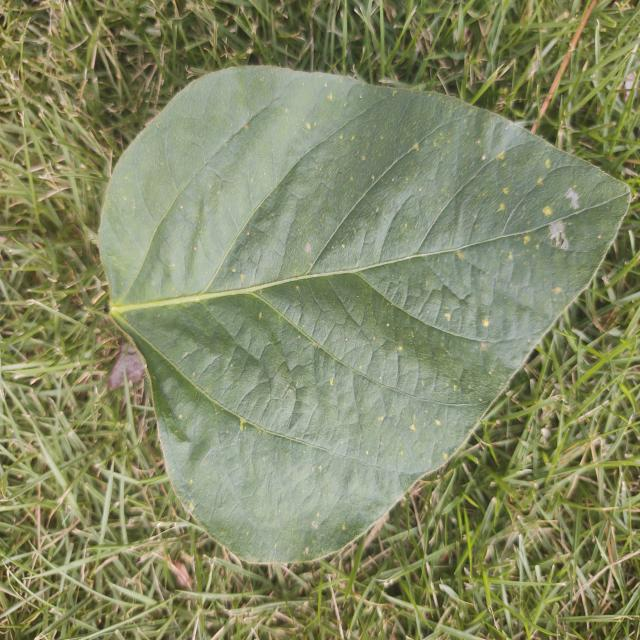Soybean: (96, 66, 633, 567)
downey_mildew: (170, 412, 357, 556), (146, 351, 249, 520), (460, 304, 588, 437), (120, 301, 253, 428), (305, 284, 393, 446), (482, 160, 632, 253), (99, 133, 182, 293), (394, 122, 483, 245), (211, 82, 304, 177), (350, 259, 445, 351), (424, 256, 519, 345), (186, 166, 252, 276), (275, 329, 357, 413), (222, 408, 359, 457), (152, 183, 215, 288), (211, 301, 282, 390), (276, 295, 327, 418), (357, 184, 433, 265), (248, 412, 310, 509), (416, 320, 490, 398), (462, 236, 533, 307), (443, 221, 573, 256), (445, 377, 504, 447), (148, 364, 197, 446), (384, 239, 488, 264), (374, 266, 419, 317), (434, 258, 474, 300)
